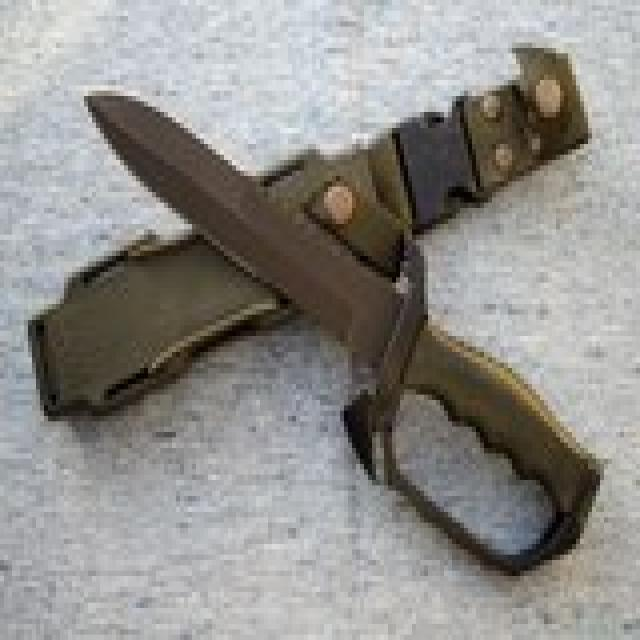Knife: (79, 77, 604, 543)
